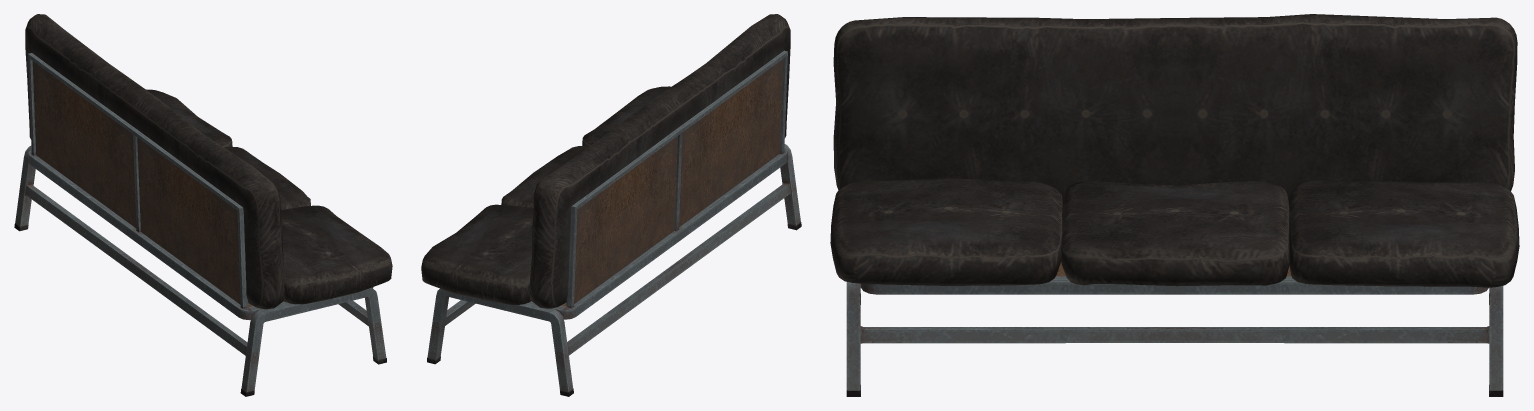
File: SM_ECL_BanketSofa_01.fbx
3 views of the same model, side by side, from view 1: azimuth 30°, elevation 25°; view 2: azimuth 150°, elevation 25°; view 3: azimuth 270°, elevation 25° (orthographic). The views are drawn at different scales.
Visible parts, largest first — view 1: SM_ECL_BanketSofa_01.mo; view 2: SM_ECL_BanketSofa_01.mo; view 3: SM_ECL_BanketSofa_01.mo.
Part boxes in pixels (bbox=[...]): SM_ECL_BanketSofa_01.mo: bbox=[14, 14, 392, 396]; SM_ECL_BanketSofa_01.mo: bbox=[421, 14, 801, 396]; SM_ECL_BanketSofa_01.mo: bbox=[830, 14, 1519, 396].
Bounding box in the file's own units: 90.39 × 119 × 250.
